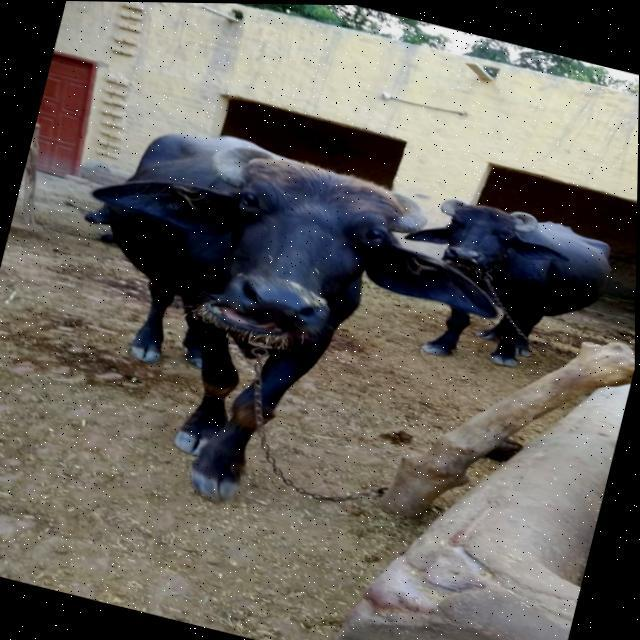Buffalo: (21, 103, 525, 557), (376, 183, 621, 392)
